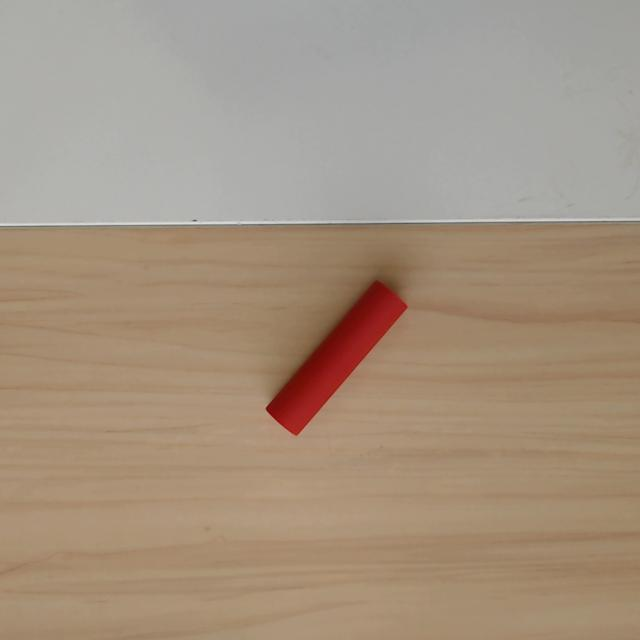Silinder-Merah-10025: (263, 278, 409, 437)
